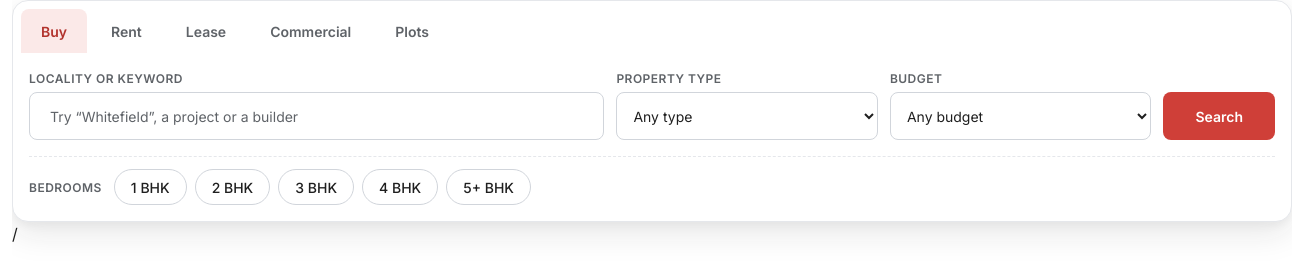
Test: HeroSearch › never carries a budget across a change of tab (D90)
The image size is (1292, 261).
Select "₹1 Cr – ₹1.5 Cr" in the dropdown labelled "Budget" at coordinates (1021, 116), box [890,92,1151,140]
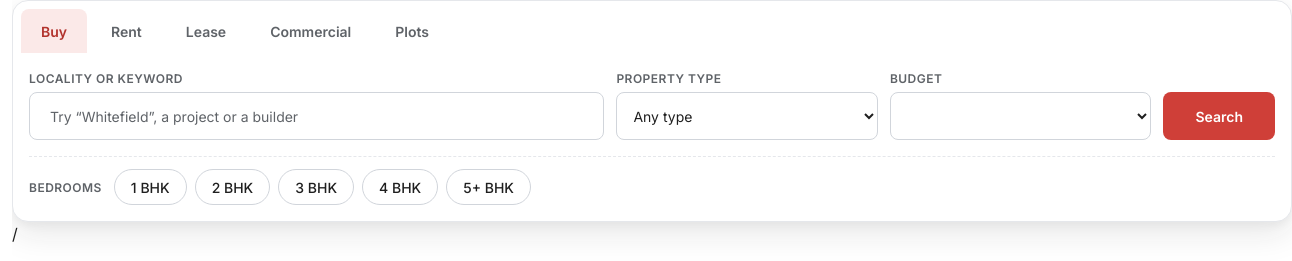
Click the tab "Rent" at coordinates (126, 31), box [91,9,162,53]
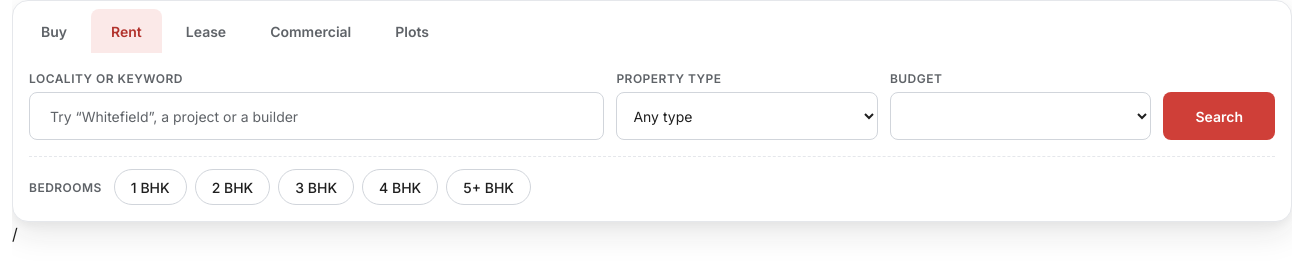
Click the button "Search" at coordinates (1219, 116), box [1164,92,1275,140]
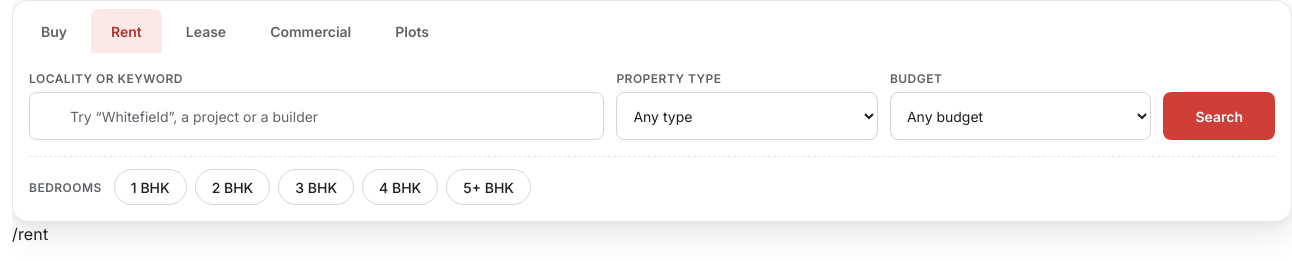
Result: the text with test id "address" reads "/rent" at [12,224,48,244]
